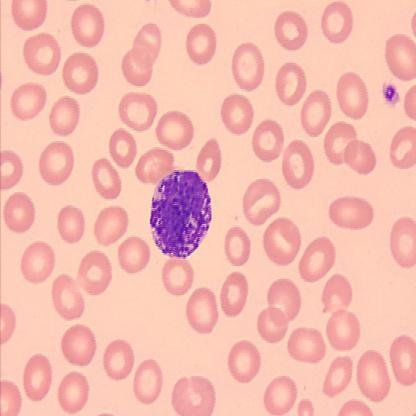Basophil: (146, 166, 214, 263)
